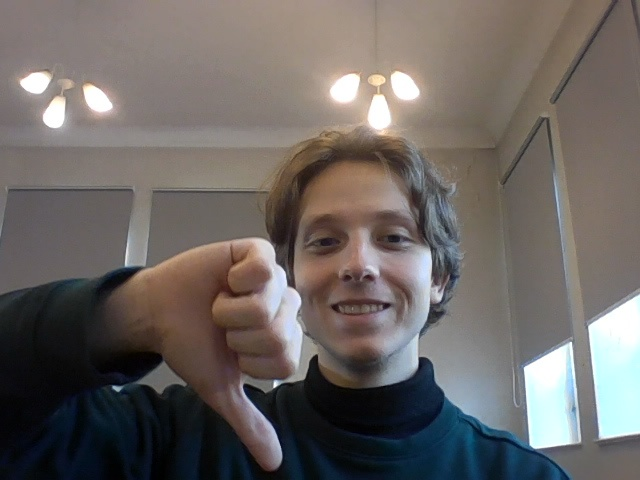no: (152, 231, 311, 472)
